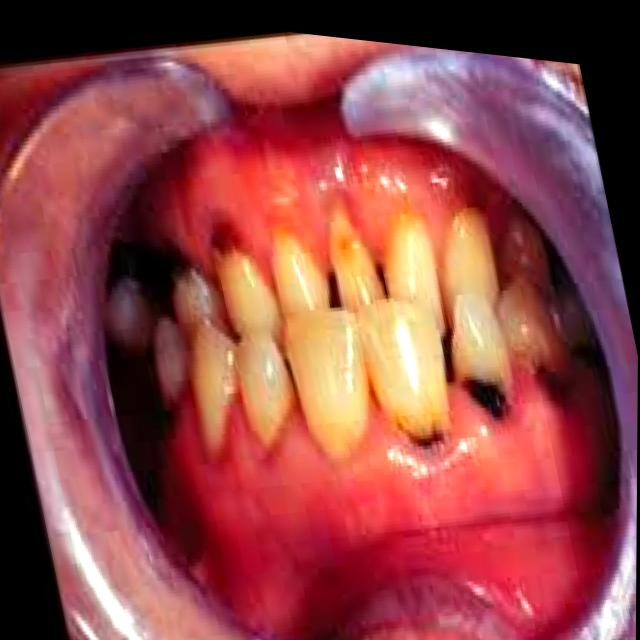cariess: (106, 243, 184, 350), (535, 358, 603, 439), (465, 382, 506, 420), (211, 228, 239, 254)
